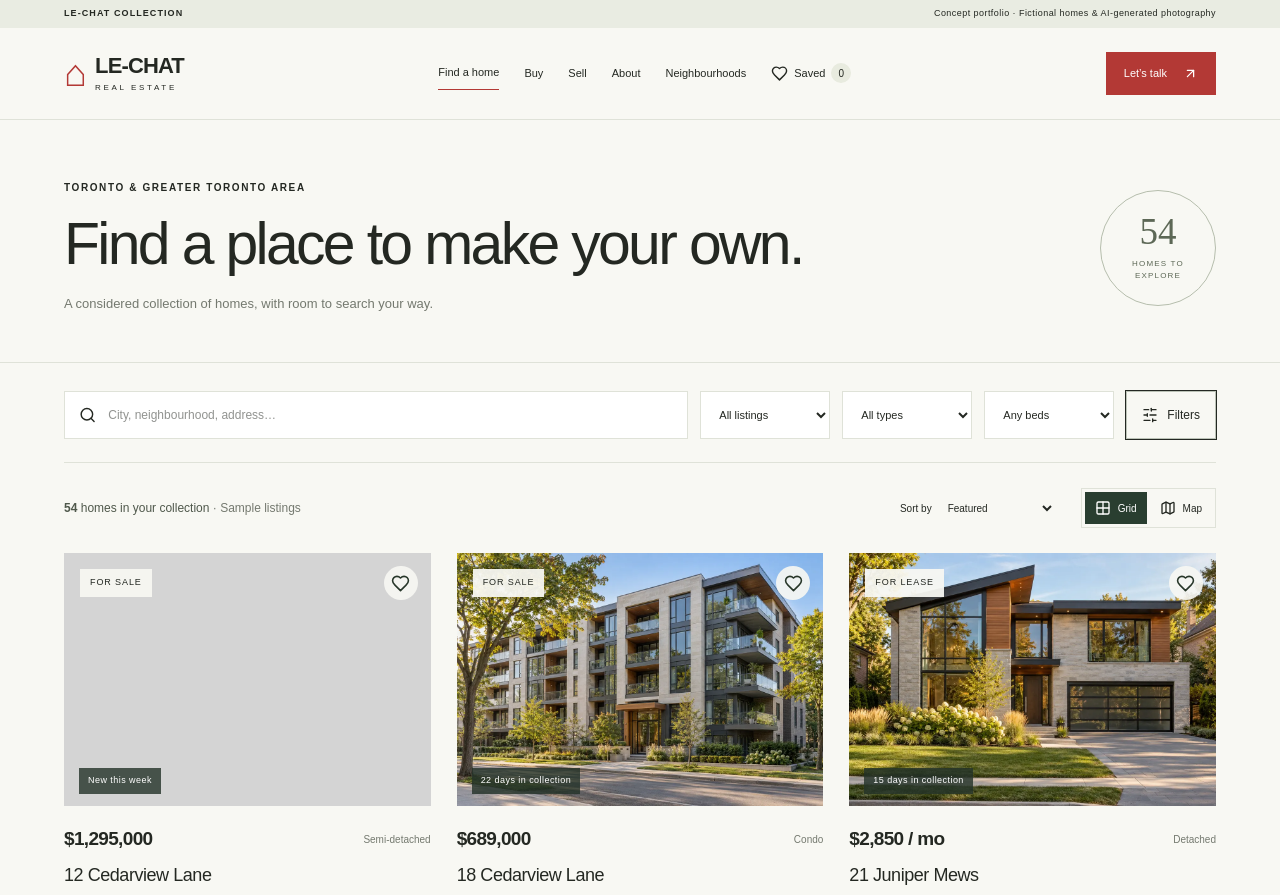
Scenario: all listings can be searched, filtered and reset from no results
Expected: the message shows "54", [64,500,77,514]
Type "Annex" into the field named "Search properties" at (388,415), box [103,392,673,438]
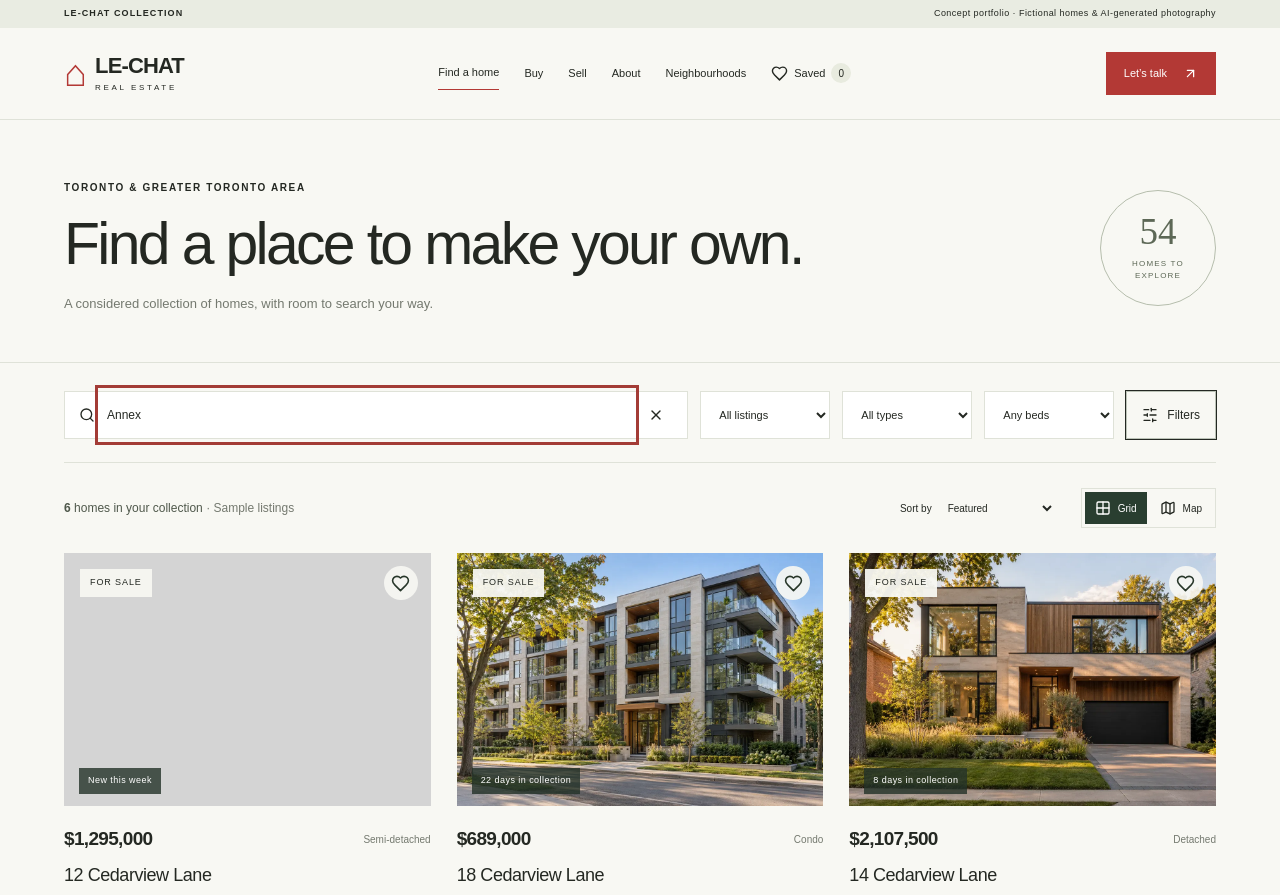
Expected: the message shows "6", [64,500,71,514]
Select "Condo" in the dropdown named "Property type" at (907,415), box [842,391,972,439]
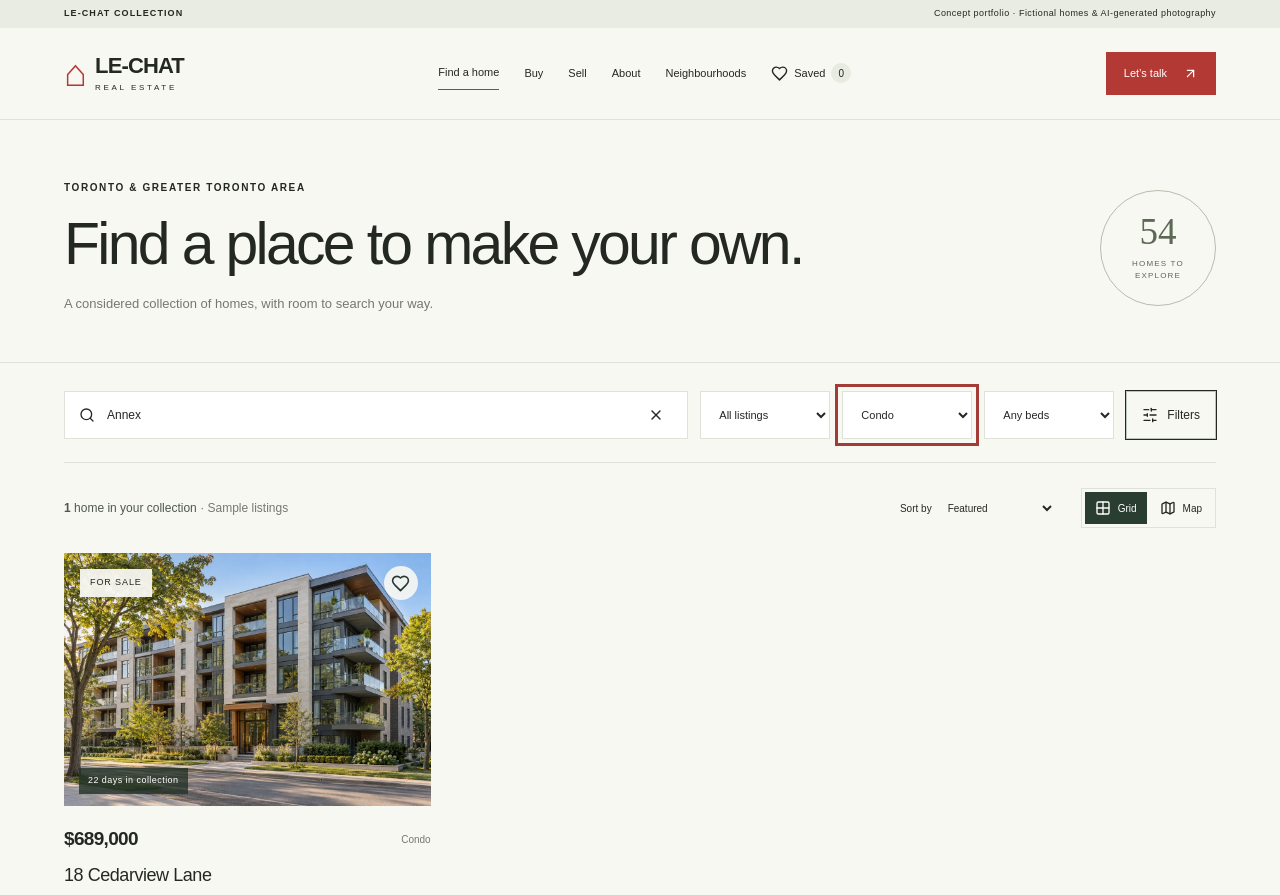
Expected: the message shows "1 home", [64,498,288,518]
Clear the field named "Search properties" at (367,415), box [102,392,632,438]
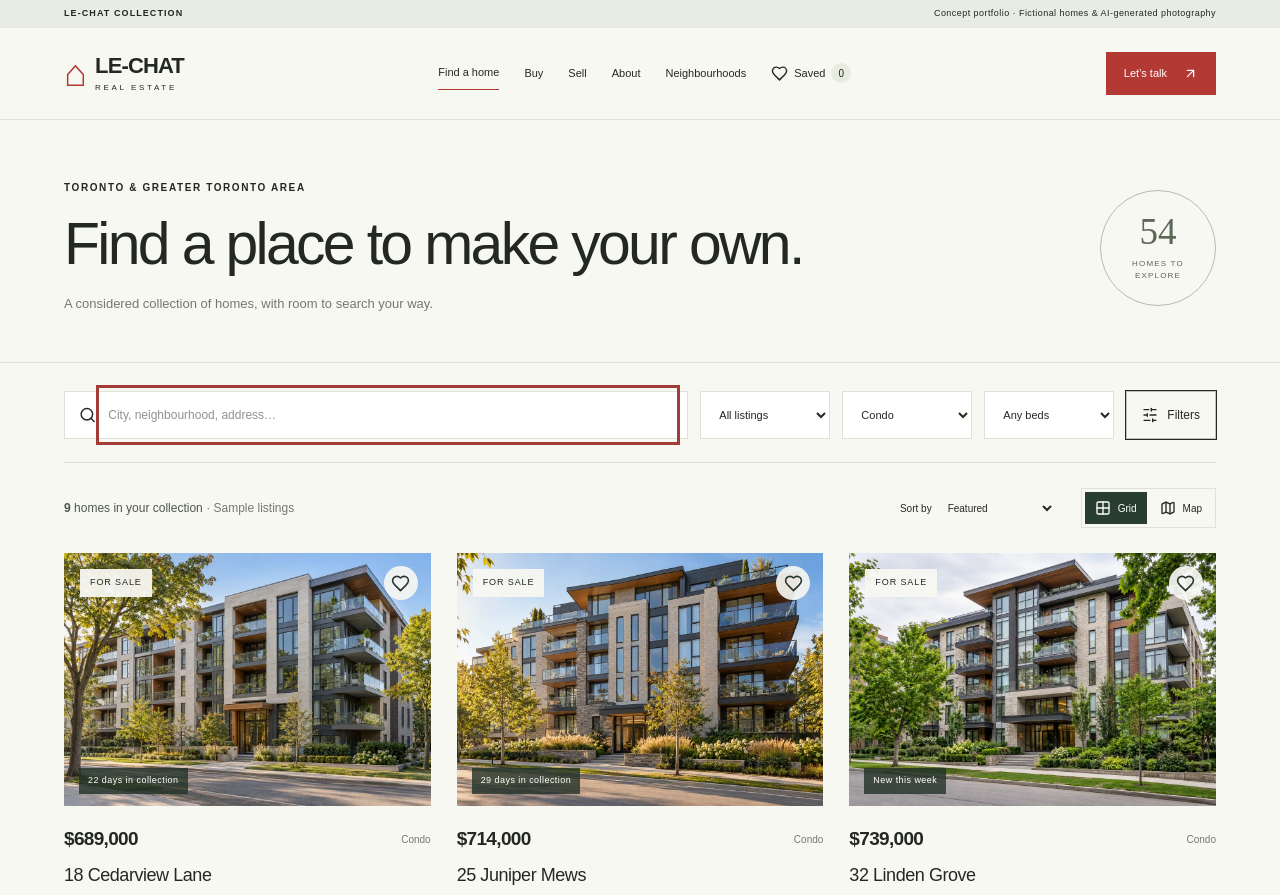
Type "no matches" into the field named "Search properties" at (388,415), box [103,392,673,438]
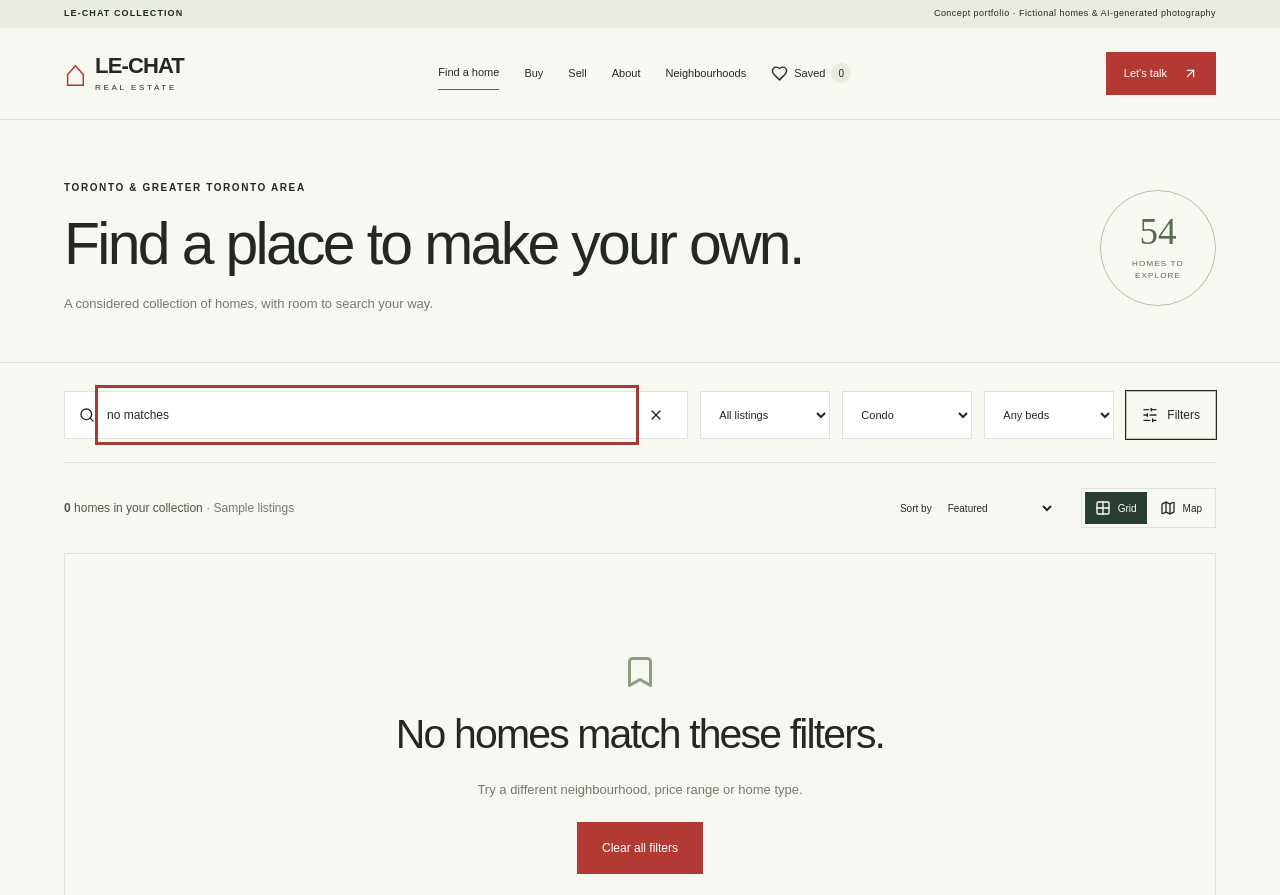
Expected: the heading "No homes match these filters." is shown, [396,710,884,759]
Click the button "Clear all filters" at (640,848), box [577,822,703,874]
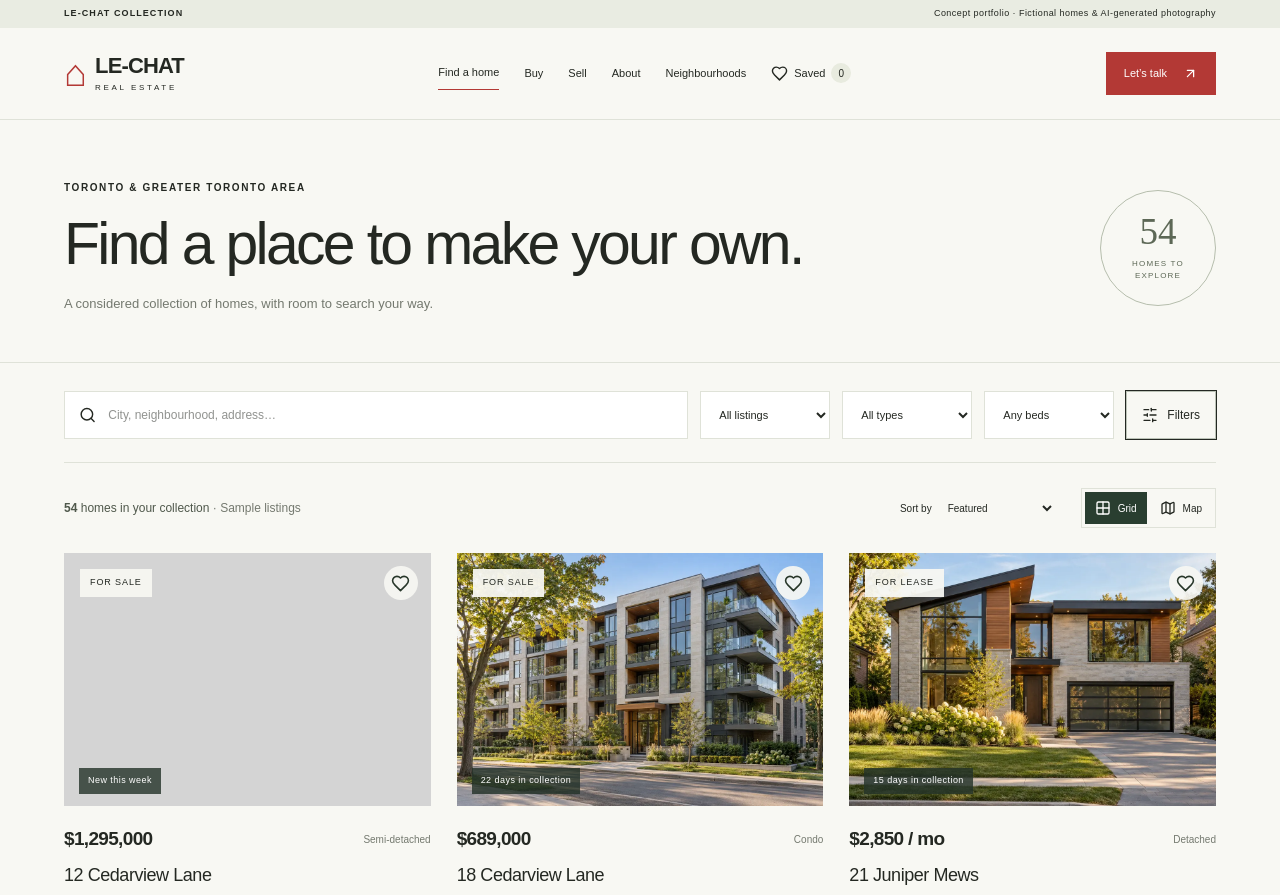
Expected: the message shows "54", [64,500,77,514]
